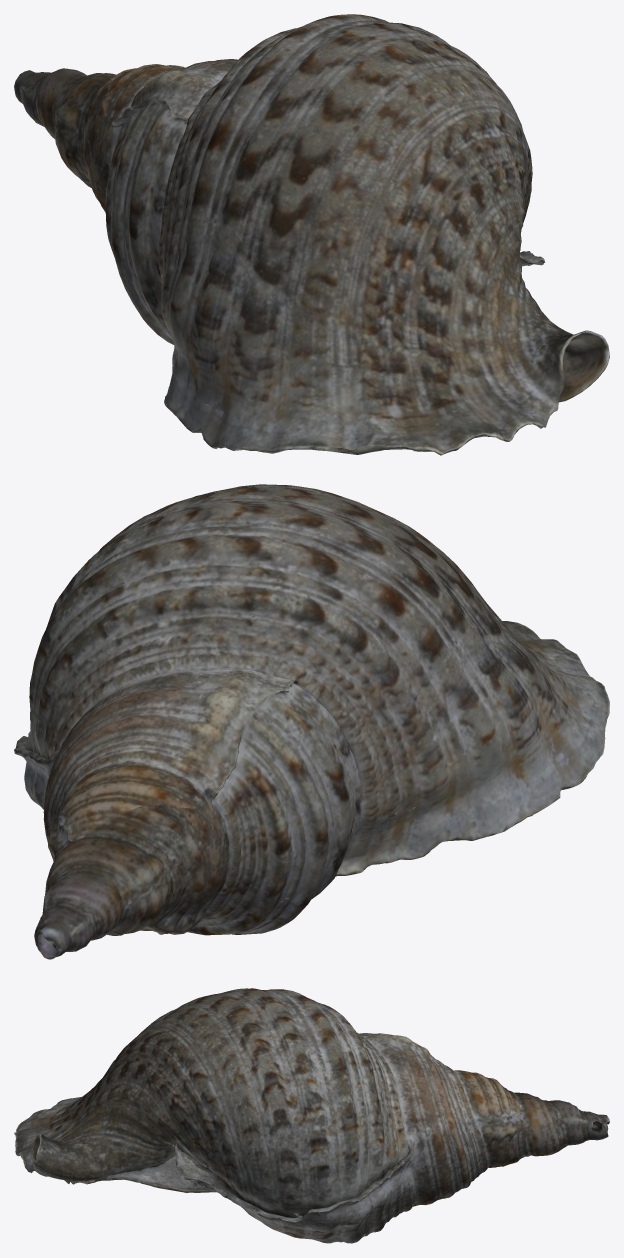
File: charonia_tritonis.model-s.glb
3 views of the same model, one above another, from view 1: azimuth 30°, elevation 25°; view 2: azimuth 150°, elevation 25°; view 3: azimuth 270°, elevation 25° (orthographic). The views are drawn at different scales.
Bounding box in the file's own units: 1382 × 1156 × 2657.
Materials: 1 (1 with a texture image).
